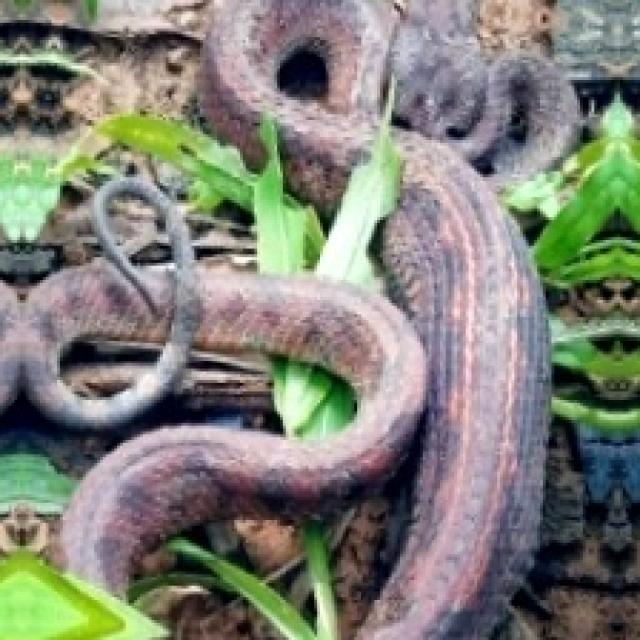philippine pitviper: (337, 37, 574, 637), (60, 272, 426, 592), (337, 129, 546, 637), (200, 0, 577, 209), (63, 426, 397, 589), (200, 0, 394, 211), (0, 260, 170, 423), (23, 260, 163, 394), (140, 434, 277, 531), (194, 274, 323, 351)
